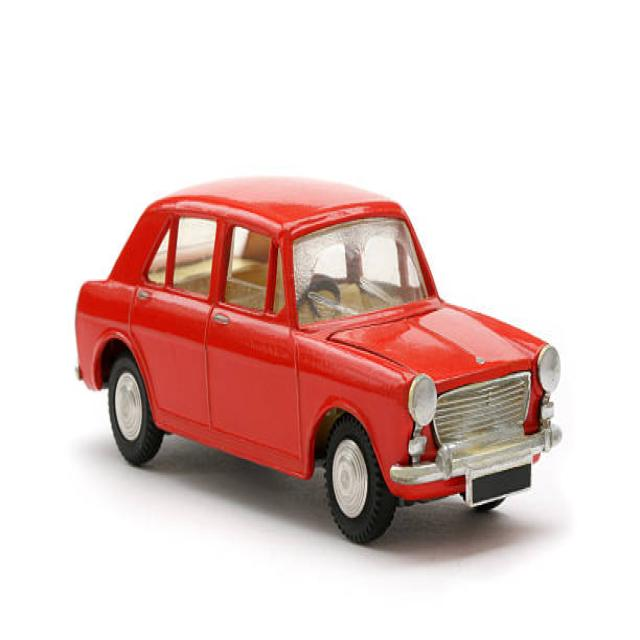Car: (73, 173, 562, 545)
